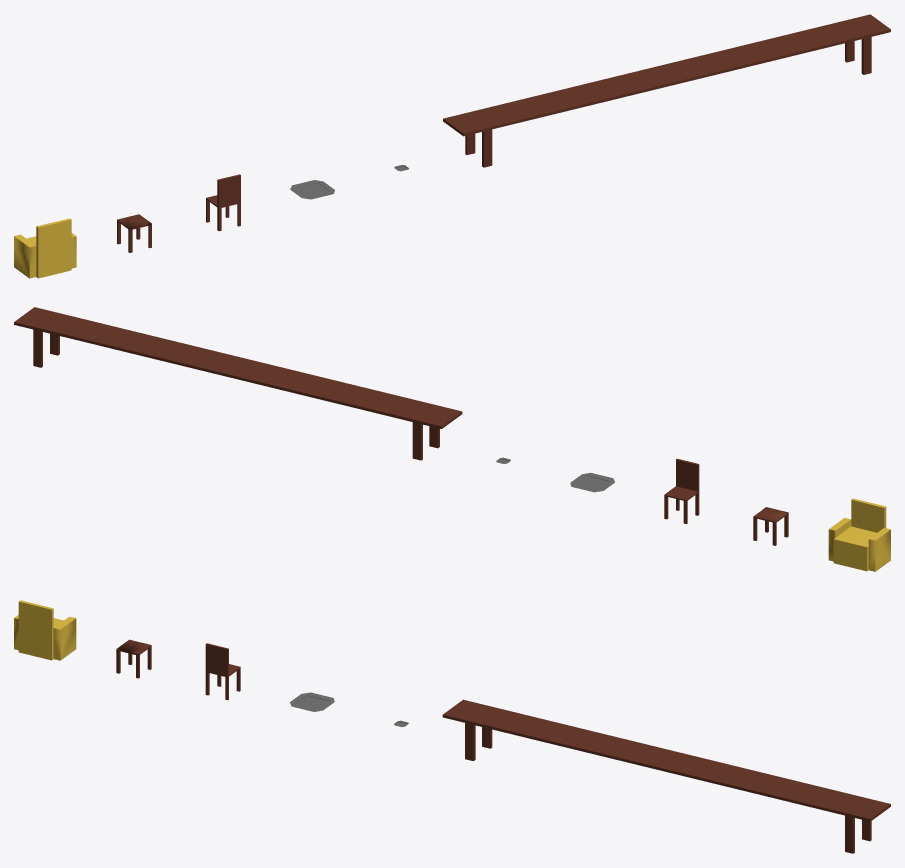
Rendered from muebles.glb.
The picture shows the model from 3 angles, top to bottom: view 1: azimuth 30°, elevation 25°; view 2: azimuth 150°, elevation 25°; view 3: azimuth 330°, elevation 25°; orthographic projection.
Visible parts, largest first — view 1: Mesa, Cube.003, Cube.001, Cube.002, Plane.001; view 2: Mesa, Cube.003, Cube.001, Cube.002, Plane.001; view 3: Mesa, Cube.003, Cube.001, Cube.002, Plane.001.
Part boxes in pixels (x1=…): Mesa: x1=443, y1=14, x2=890, y2=167; Cube.003: x1=14, y1=218, x2=76, y2=278; Cube.001: x1=206, y1=174, x2=240, y2=231; Cube.002: x1=117, y1=214, x2=151, y2=252; Plane.001: x1=290, y1=180, x2=334, y2=199; Mesa: x1=14, y1=307, x2=462, y2=460; Cube.003: x1=828, y1=498, x2=890, y2=571; Cube.001: x1=664, y1=458, x2=699, y2=523; Cube.002: x1=753, y1=507, x2=788, y2=545; Plane.001: x1=570, y1=472, x2=614, y2=492; Mesa: x1=442, y1=699, x2=890, y2=853; Cube.003: x1=14, y1=600, x2=76, y2=660; Cube.001: x1=205, y1=643, x2=240, y2=700; Cube.002: x1=116, y1=639, x2=151, y2=678; Plane.001: x1=290, y1=692, x2=334, y2=711.
Bounding box in the file's own units: 19.28 × 1.09 × 0.8.
